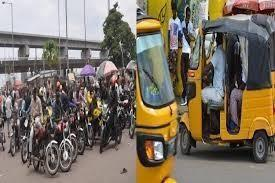keke: (184, 15, 275, 166)
